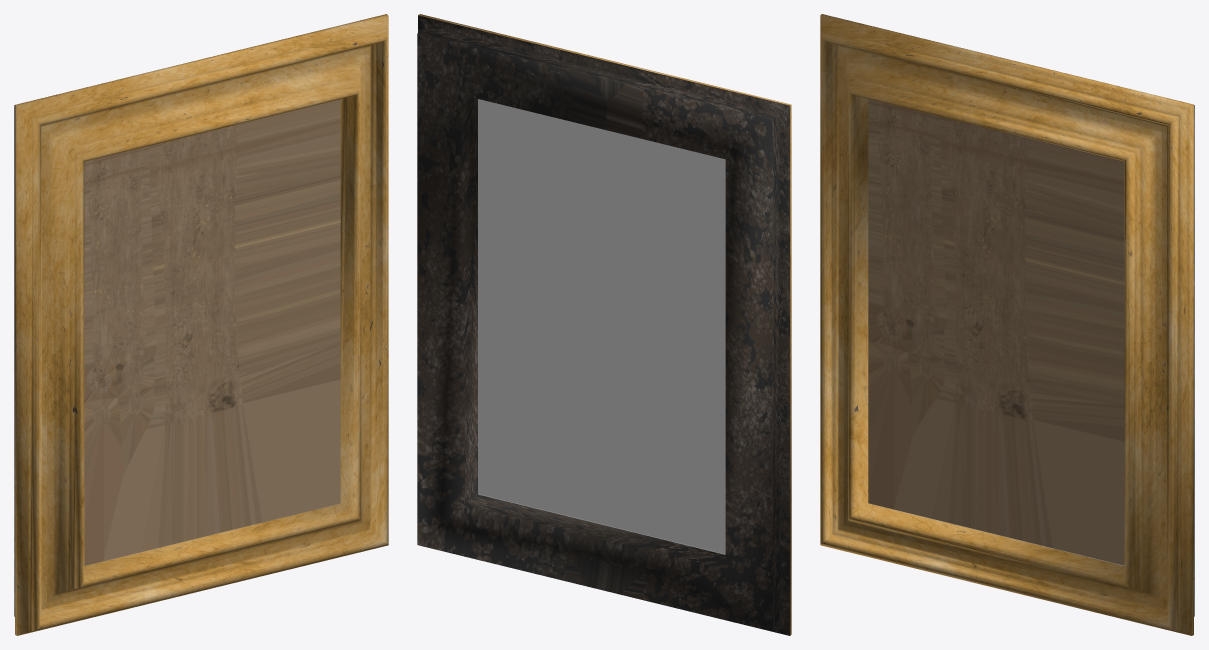
Rendered from Mona.fbx.
3 views of the same model, side by side, from view 1: azimuth 30°, elevation 25°; view 2: azimuth 150°, elevation 25°; view 3: azimuth 330°, elevation 25° (orthographic).
Parts seen in each view (by area): view 1: Object_4; view 2: Object_4; view 3: Object_4.
Part boxes in pixels (left/top/right/bottom): Object_4: left=14, top=14, right=388, bottom=635; Object_4: left=417, top=14, right=791, bottom=635; Object_4: left=820, top=14, right=1194, bottom=635.
Size of the model in its own units: 112 by 153 by 15.32.
4 materials, 3 textured.
